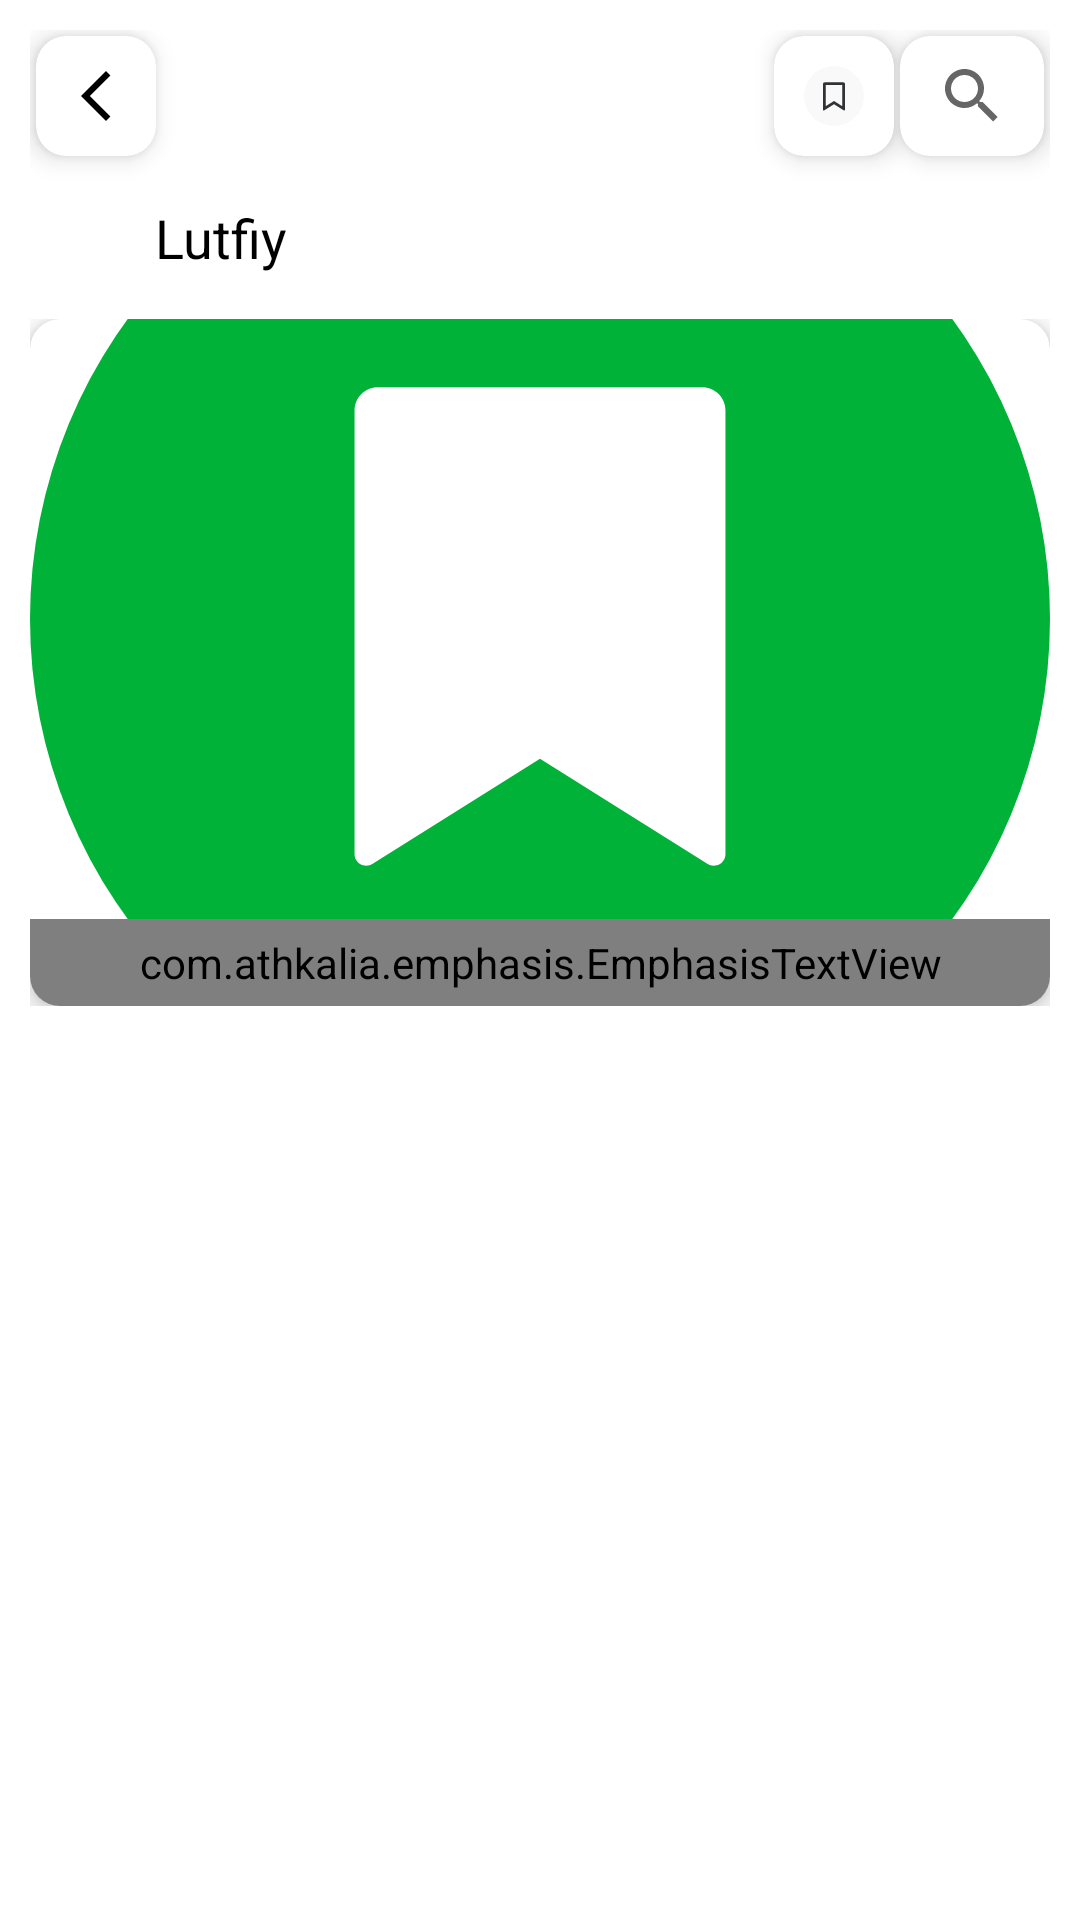

Icons on this 1080*1920 Android screen, each with its box as (x1, y1, x2, y2):
back: (36, 36, 156, 156)
unsaved: (774, 36, 894, 156)
